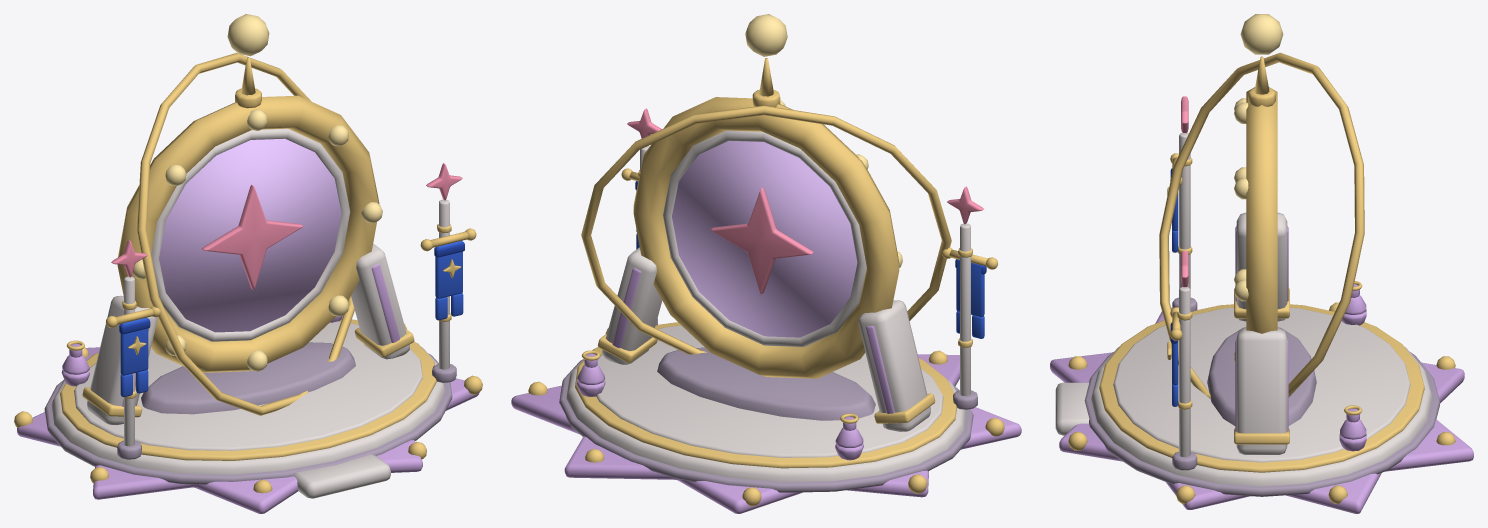
The model's file is StarGate.glb.
The picture shows the model from 3 angles, left to right: view 1: azimuth 30°, elevation 25°; view 2: azimuth 150°, elevation 25°; view 3: azimuth 270°, elevation 25°; orthographic projection.
Parts seen in each view (by area): view 1: StarGate; view 2: StarGate; view 3: StarGate.
Boxes of the visible parts, box(x1,y1,x2,y2) form: StarGate: box(14, 14, 482, 513); StarGate: box(511, 14, 1021, 513); StarGate: box(1050, 14, 1473, 513).
Size of the model in its own units: 3.35 by 3.17 by 3.02.
